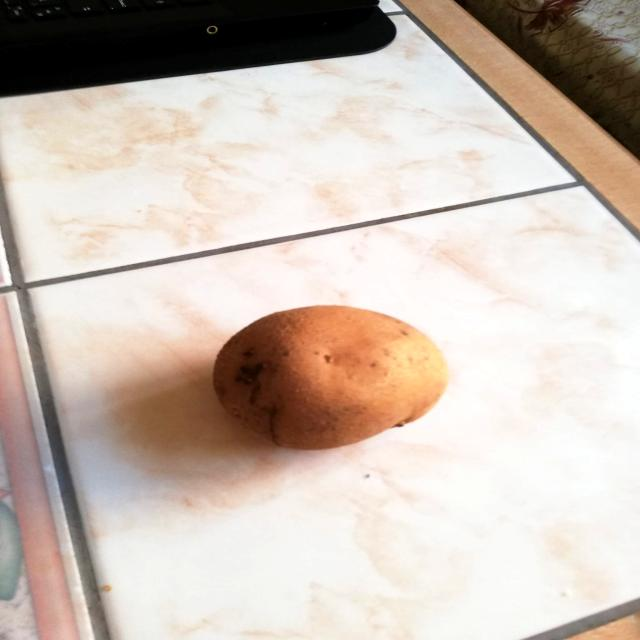potato: (200, 294, 462, 455)
